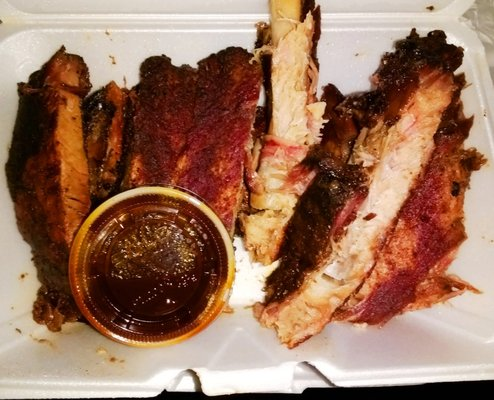sushi: (68, 185, 236, 347)
